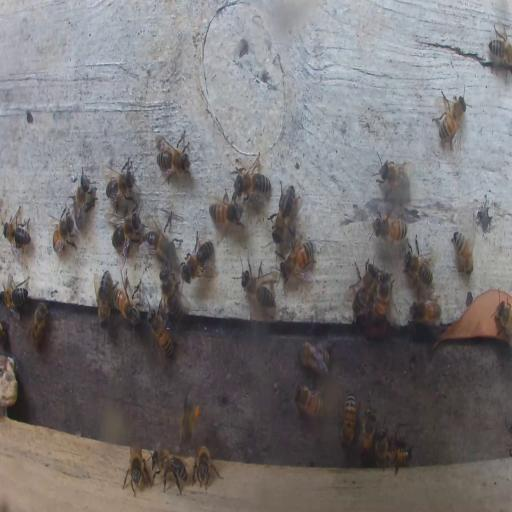bee: (431, 87, 468, 151), (402, 233, 435, 288), (155, 129, 190, 180), (240, 264, 277, 312), (349, 256, 377, 318), (271, 183, 300, 242), (50, 201, 78, 261), (154, 448, 188, 494), (71, 166, 95, 231), (183, 232, 214, 282), (113, 276, 143, 326), (104, 157, 136, 202), (143, 220, 174, 266), (110, 211, 144, 251), (489, 19, 512, 75), (281, 240, 314, 278), (148, 309, 174, 357), (234, 164, 270, 198), (375, 158, 409, 194), (179, 388, 200, 446), (208, 194, 243, 228), (298, 341, 332, 375), (194, 443, 220, 487), (93, 270, 113, 327), (372, 271, 393, 325), (159, 273, 184, 318), (451, 229, 474, 277), (29, 299, 50, 350), (1, 276, 29, 314), (339, 392, 358, 447), (372, 214, 408, 242), (408, 297, 442, 326), (359, 403, 377, 457), (124, 446, 144, 494), (294, 385, 324, 416), (3, 216, 31, 246), (492, 301, 511, 343), (375, 423, 389, 469), (388, 443, 412, 465), (0, 323, 6, 341)
